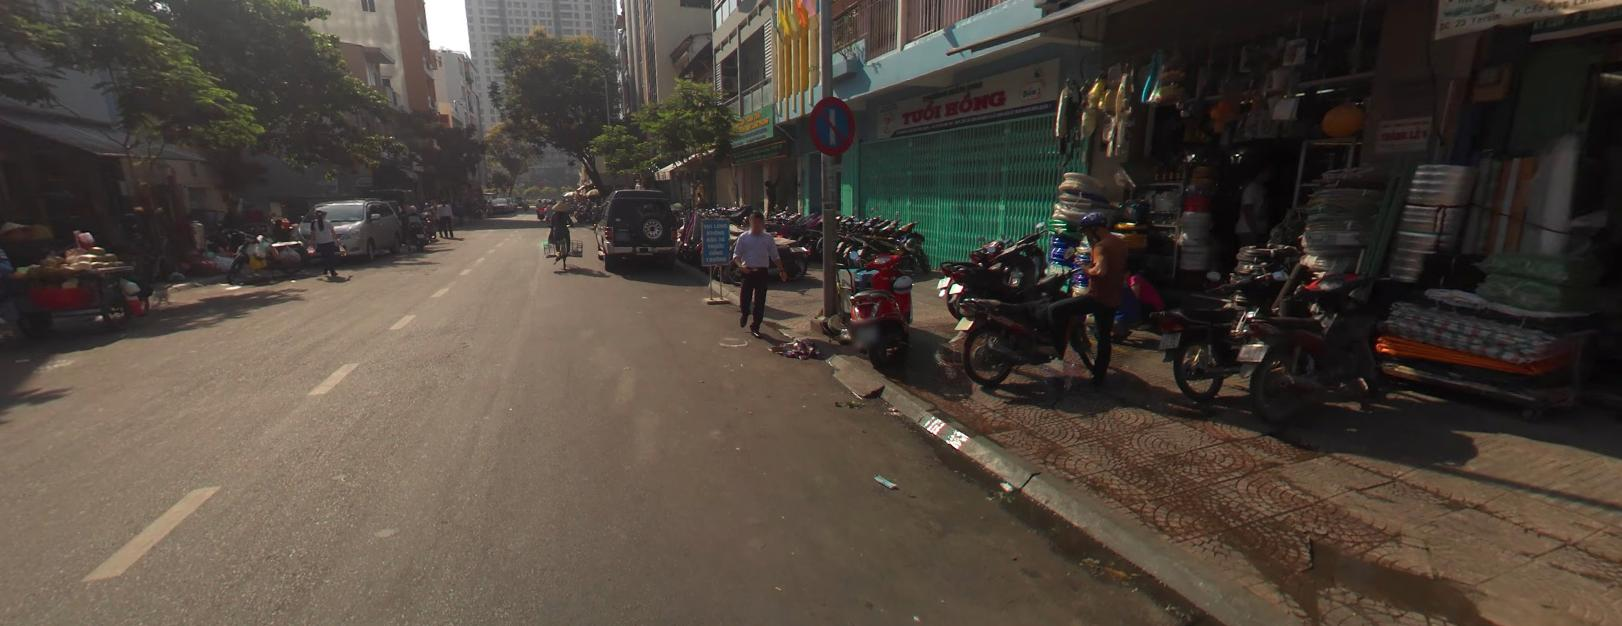Cam dung va do: (806, 94, 857, 155), (809, 95, 855, 154)
